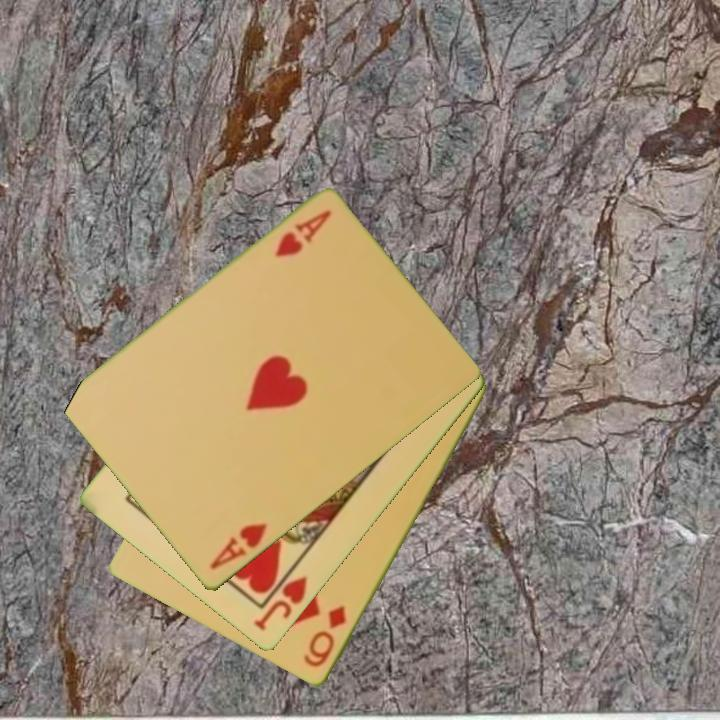6d: (300, 602, 350, 671)
Ah: (271, 207, 335, 261), (206, 520, 270, 573)
Jh: (250, 559, 311, 634)
